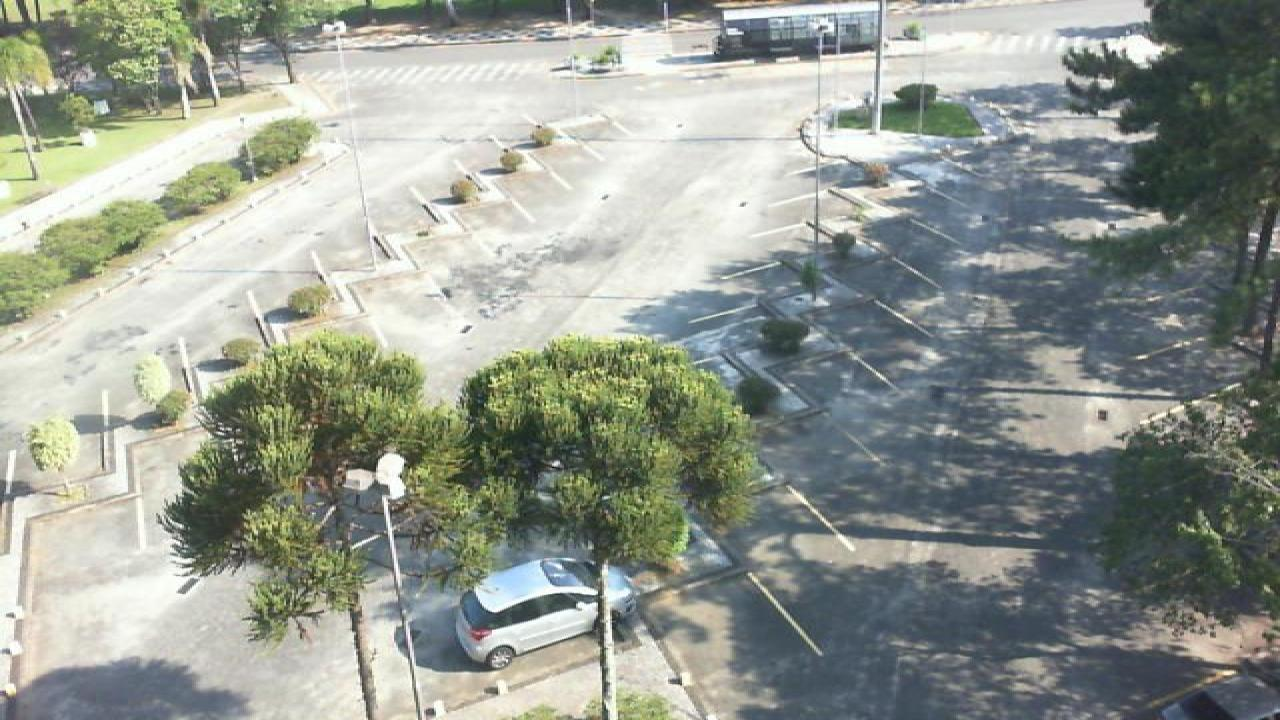Car: (450, 556, 636, 672), (1156, 687, 1280, 720)
